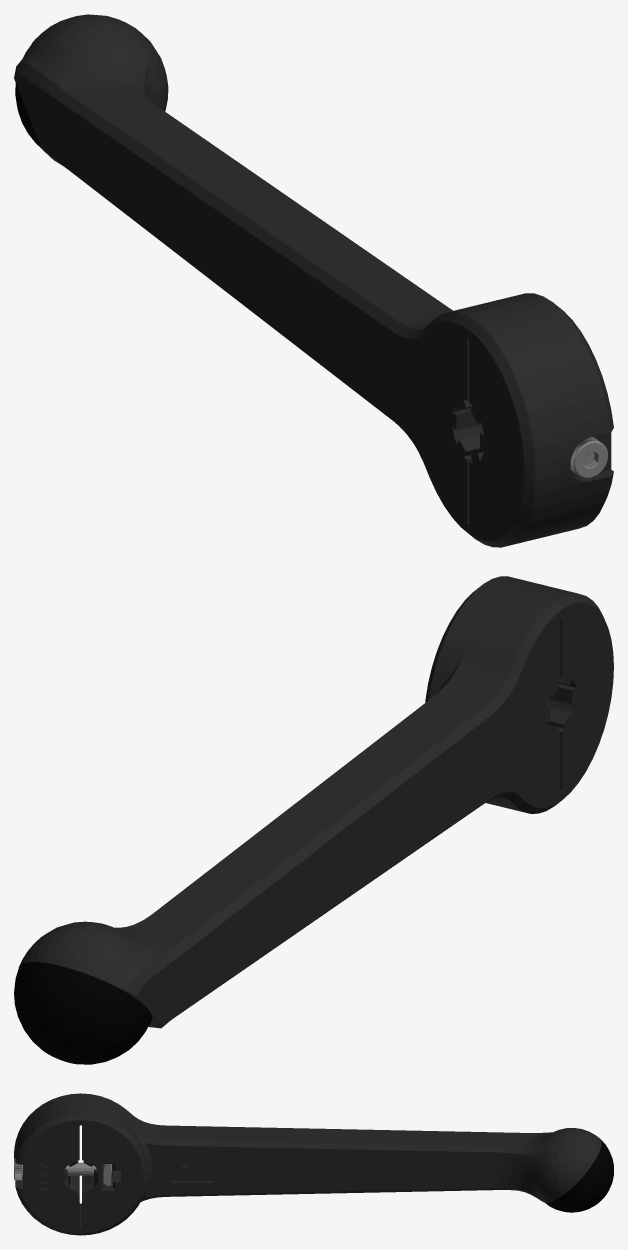
File: Lower_Leg_R.obj
3 renders of one model, top to bottom at view 1: azimuth 30°, elevation 25°; view 2: azimuth 150°, elevation 25°; view 3: azimuth 270°, elevation 25°, orthographic. The views are drawn at different scales.
Visible parts, largest first — view 1: Lower_Leg_R; view 2: Lower_Leg_R; view 3: Lower_Leg_R.
Boxes of the visible parts, bbox=[...] form: Lower_Leg_R: bbox=[14, 14, 613, 547]; Lower_Leg_R: bbox=[14, 576, 613, 1064]; Lower_Leg_R: bbox=[14, 1093, 613, 1235].
Bounding box in the file's own units: 0.0191 × 0.03 × 0.1345.
1 material, 1 textured.
